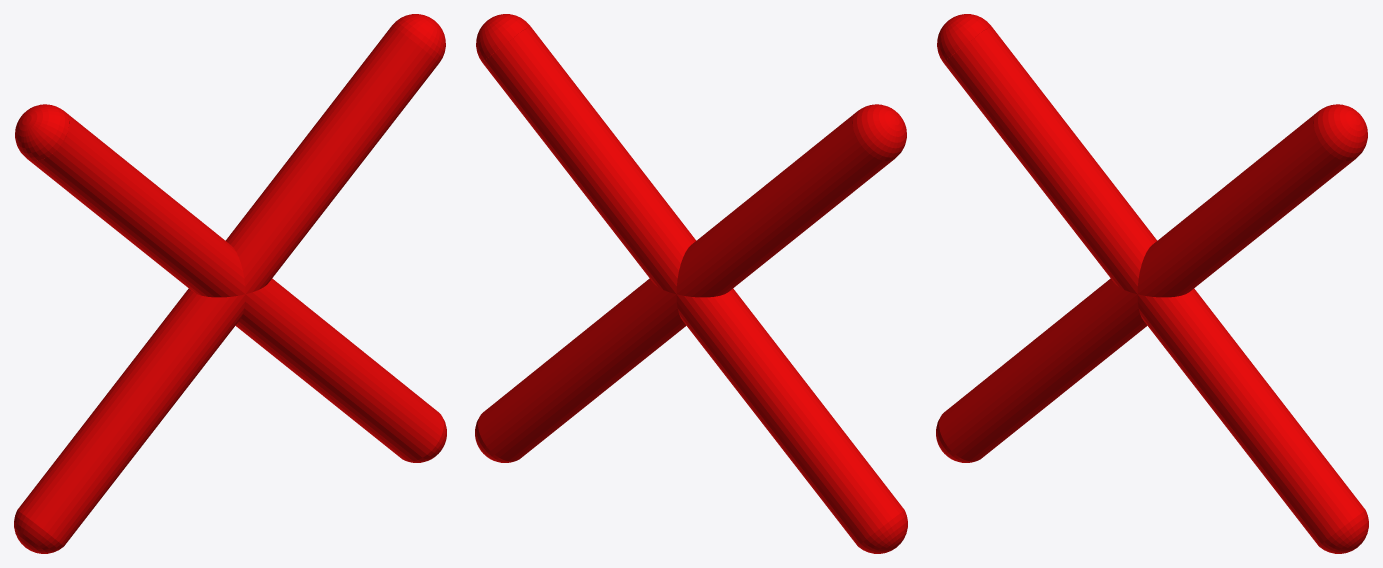
The picture shows the model from 3 angles, left to right: view 1: azimuth 30°, elevation 25°; view 2: azimuth 150°, elevation 25°; view 3: azimuth 330°, elevation 25°; orthographic projection.
Visible parts, largest first — view 1: Sphere; view 2: Sphere; view 3: Sphere.
Boxes of the visible parts, x1,y1,x2,y2 form: Sphere: (14, 14, 446, 553); Sphere: (475, 14, 907, 553); Sphere: (936, 14, 1368, 553).
Size of the model in its own units: 16.18 by 16.14 by 2.
